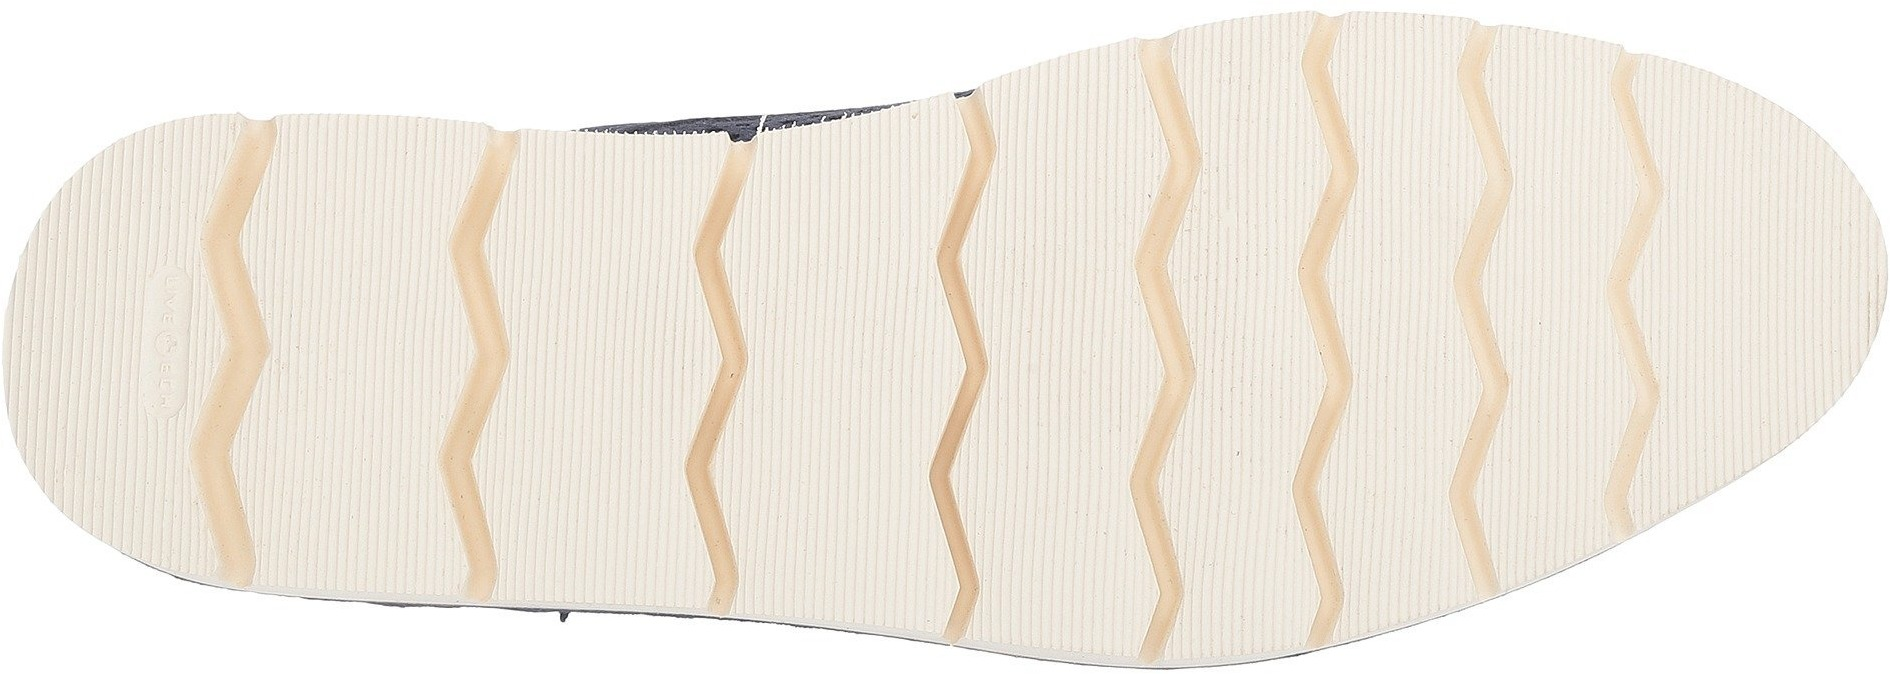chevron: (1066, 316, 1377, 602), (1407, 222, 1700, 493)
other: (1656, 178, 1856, 374), (734, 410, 933, 586), (497, 408, 688, 590), (265, 197, 447, 385), (755, 150, 935, 332), (512, 191, 699, 367), (256, 414, 432, 590), (970, 397, 1135, 549), (998, 166, 1135, 311), (27, 283, 146, 430), (1493, 231, 1613, 346), (1343, 229, 1448, 336), (1195, 191, 1299, 288)
